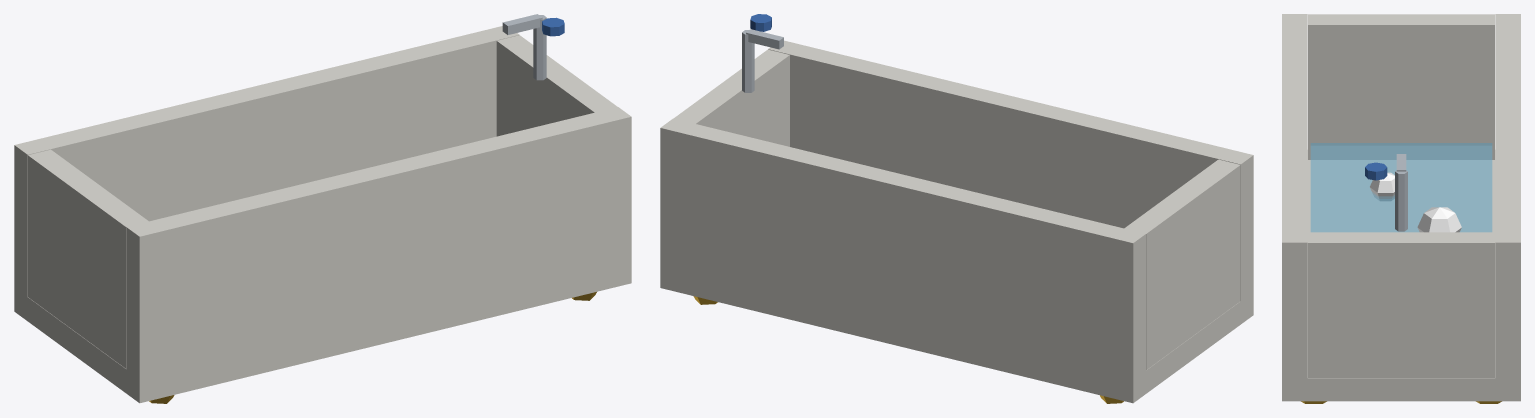
The model's file is bathtub.fbx.
3 renders of one model, left to right at view 1: azimuth 30°, elevation 25°; view 2: azimuth 150°, elevation 25°; view 3: azimuth 270°, elevation 25°, orthographic. The views are drawn at different scales.
Parts seen in each view (by area): view 1: bathtub; view 2: bathtub; view 3: bathtub, water, MECH_tap.
Part boxes in pixels (x1,y1,x2,y2): bathtub: (14,14,631,403); bathtub: (660,29,1253,403); bathtub: (1282,14,1520,403); water: (1310,143,1492,232); MECH_tap: (1365,162,1387,180).
Size of the model in its own units: 6.8 by 3.32 by 3.
